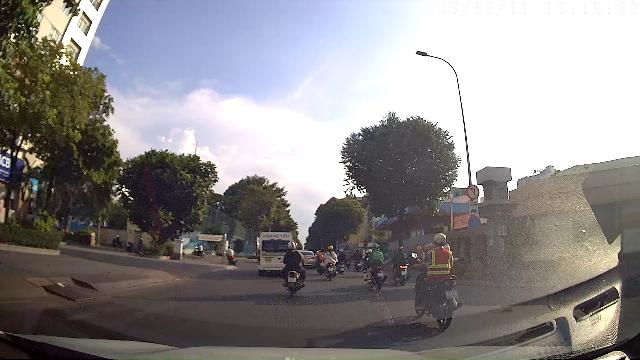123a-cam-re-trai: (466, 184, 480, 200)
